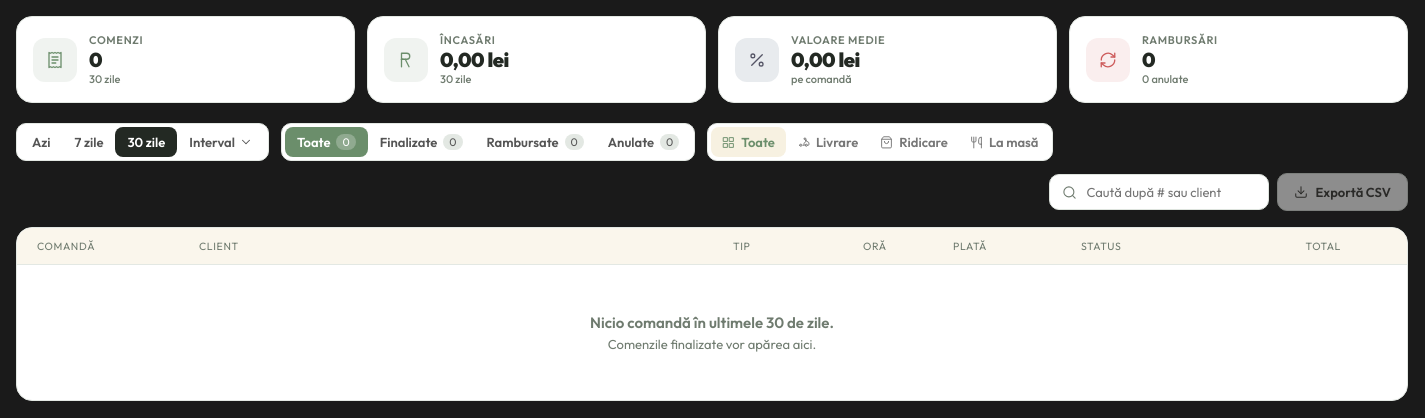
D-12/D-13 — period-dependent copy (tile sub-labels + empty state) › empty state, settled 7 days (ro): "Nicio comandă în ultimele 7 zile."
Click the button with test id "history-period-pill" showing "7 zile" at (89, 142), box top-left (63, 127), bottom-right (116, 157)
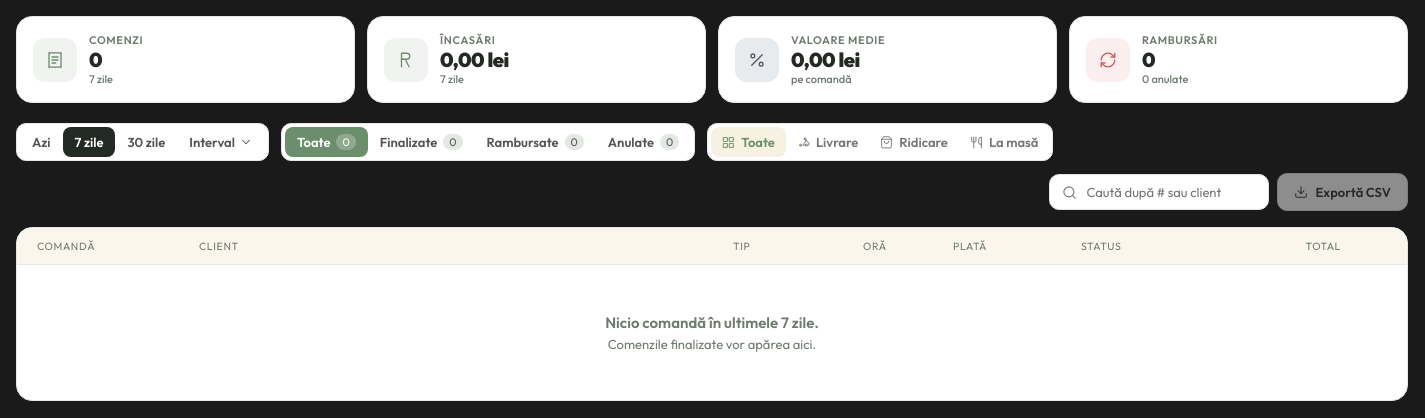
Result: the text "Nicio comandă în ultimele 7 zile." is shown at top-left (605, 313), bottom-right (819, 332)
